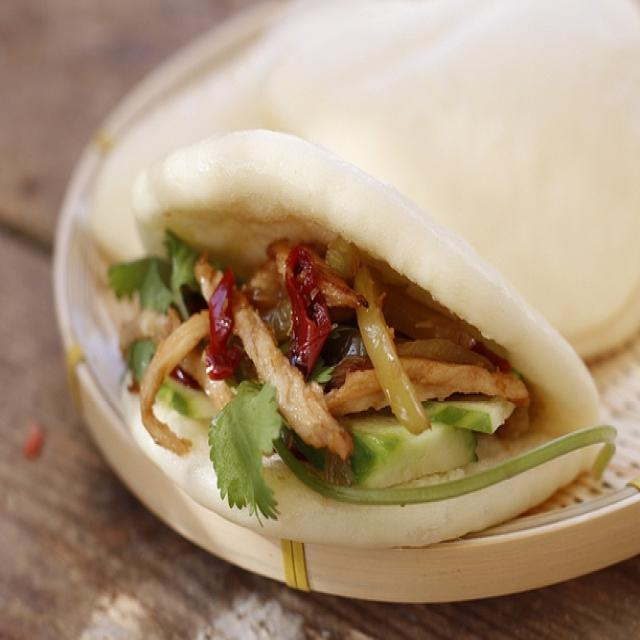带馅早点: (47, 16, 632, 615)
